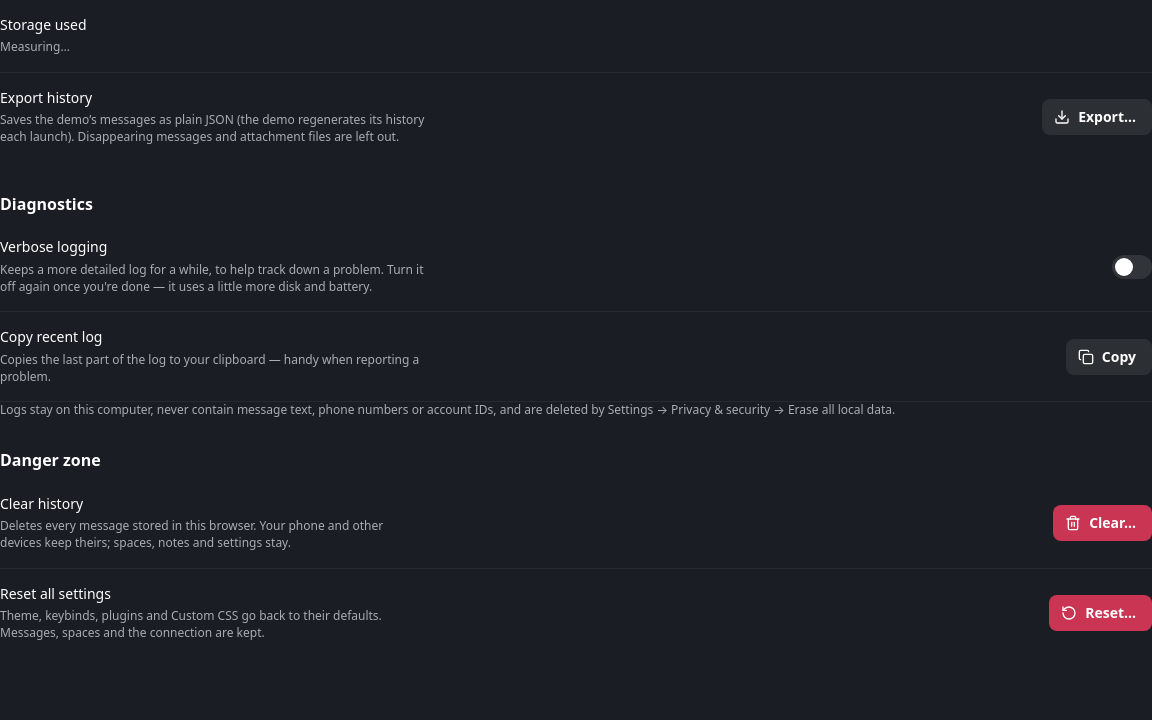
Test: Settings → Data & storage → Export history › cancelling writes nothing
Click the button "Export…": (1097, 117) [1042, 99, 1151, 135]
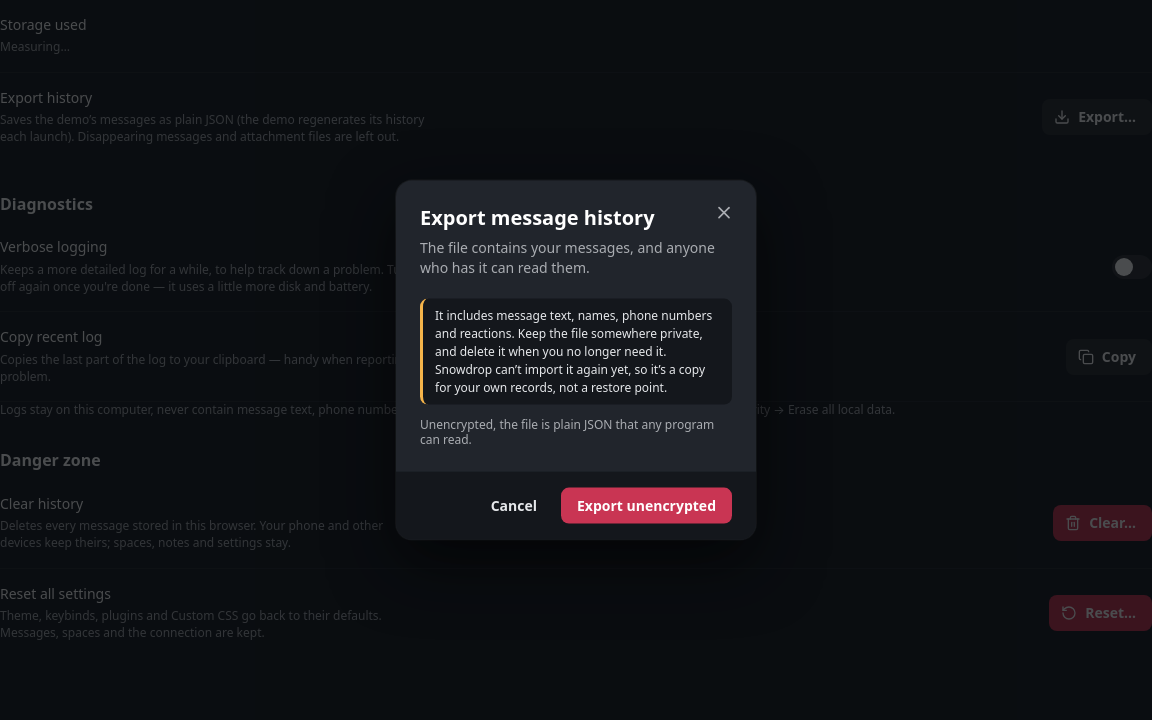
Click the button "Cancel": (514, 505) [475, 487, 553, 523]
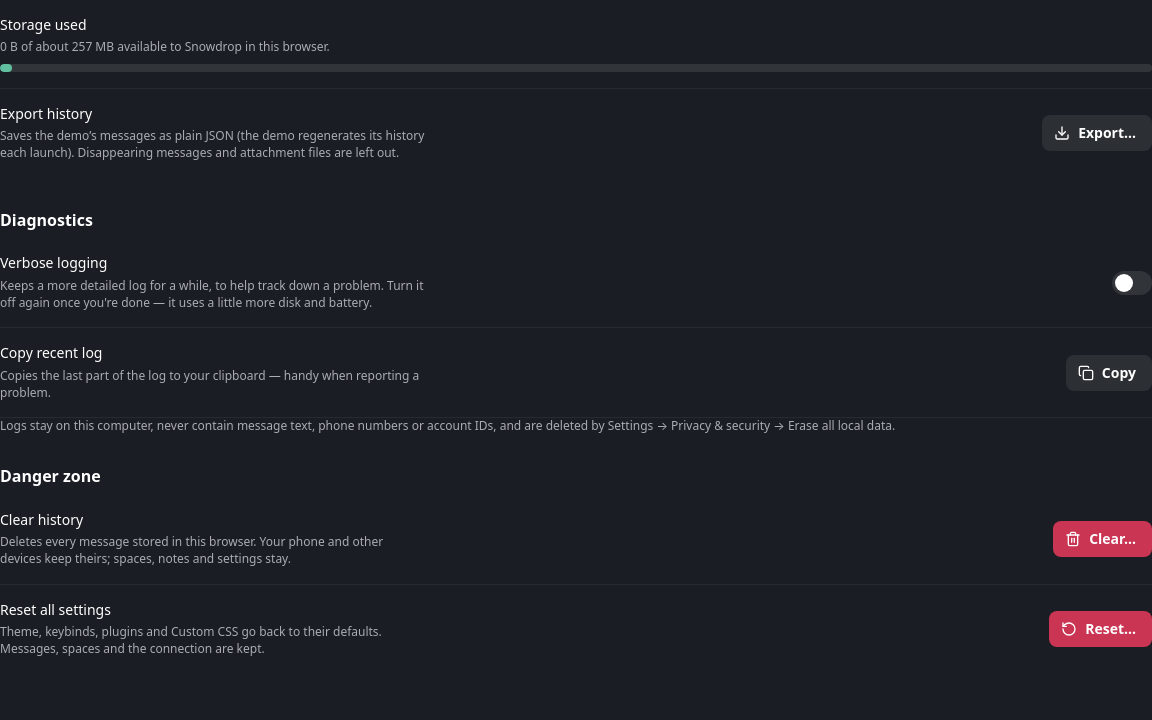
Expected: the heading "Export message history" is gone
